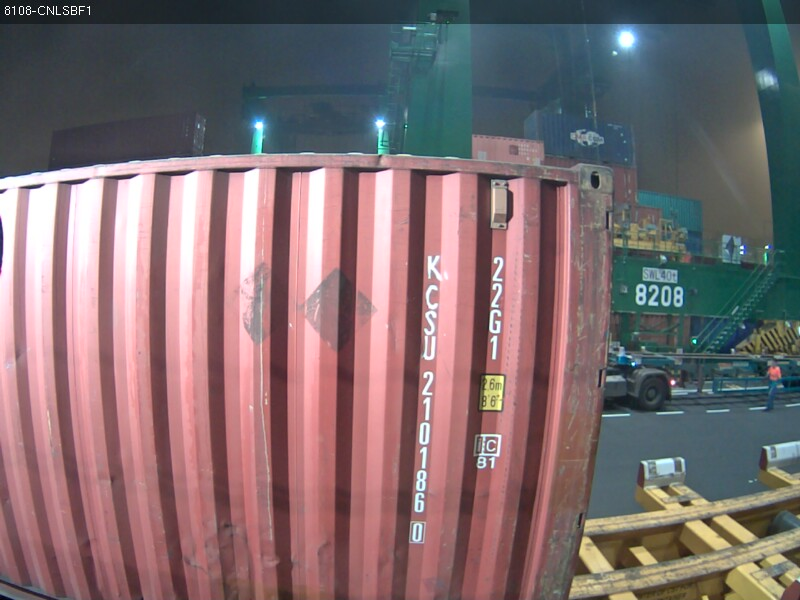container_no_door: (202, 153, 620, 554)
